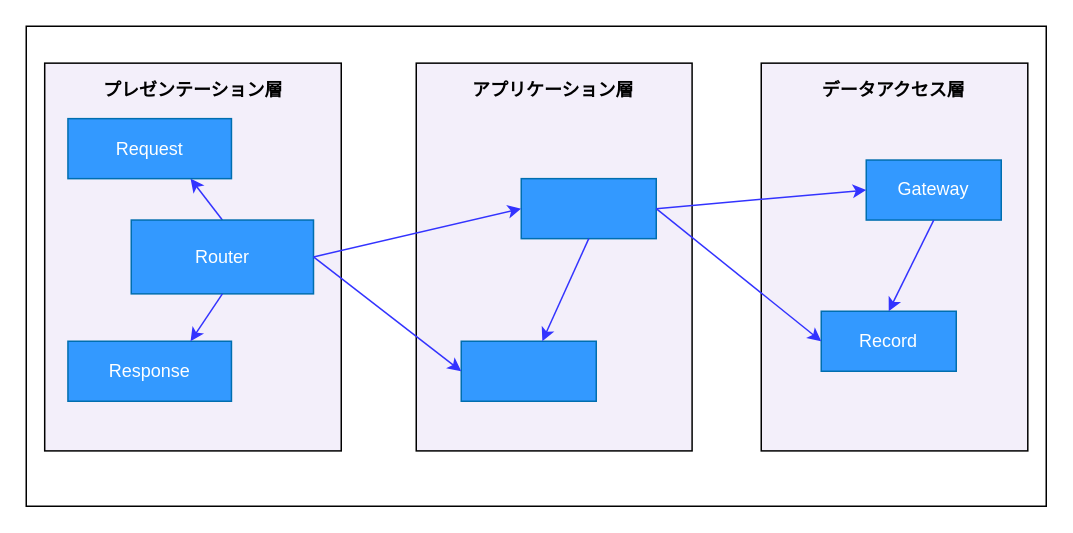
The diagram is 1073 pixels wide and 533 high, and some of its shapes have lost their labels. Here are the shapes that lost their labels. From the top down, the centre of each, then its label:
At point 588,208: "Service".
At point 528,370: "Output".
